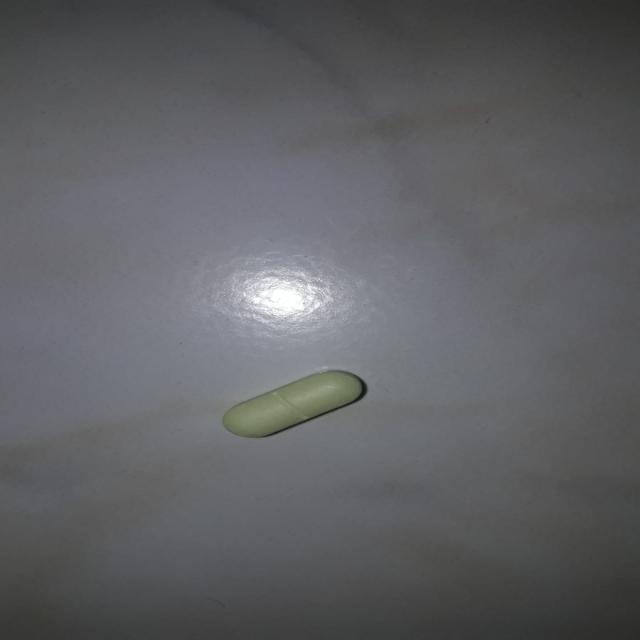pills: (207, 358, 386, 446)
